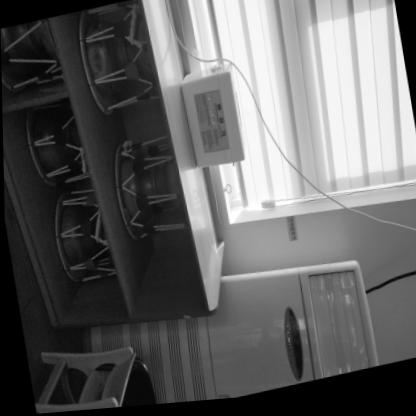DDL: (176, 62, 248, 178)
